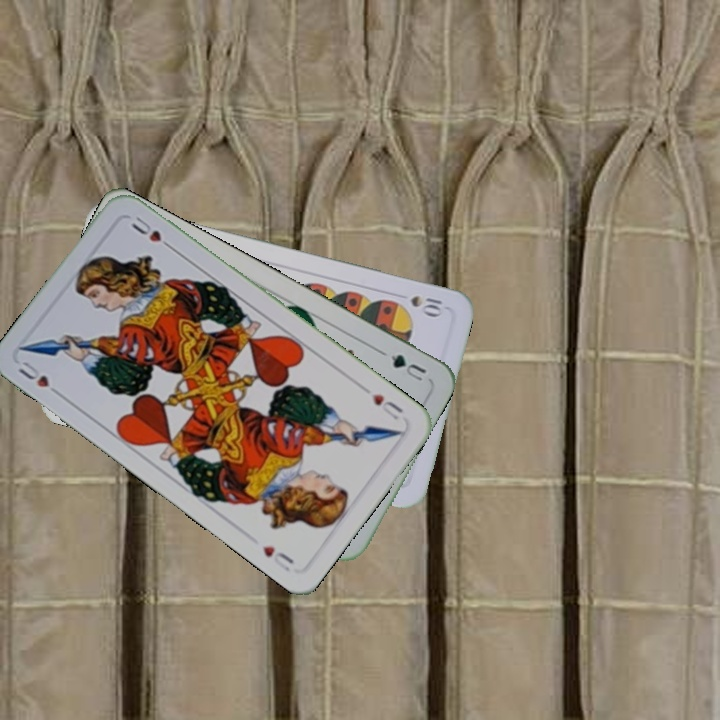GU: (386, 350, 429, 384)
HU: (13, 357, 65, 400), (368, 389, 406, 423)
S10: (407, 291, 445, 318)
